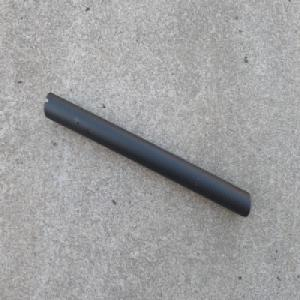LuggagePart: (43, 87, 251, 217)
